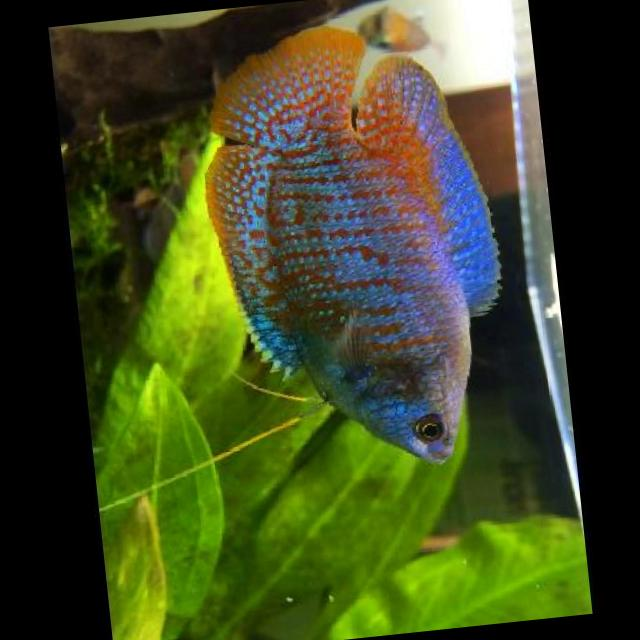Gourami: (189, 8, 522, 486)
